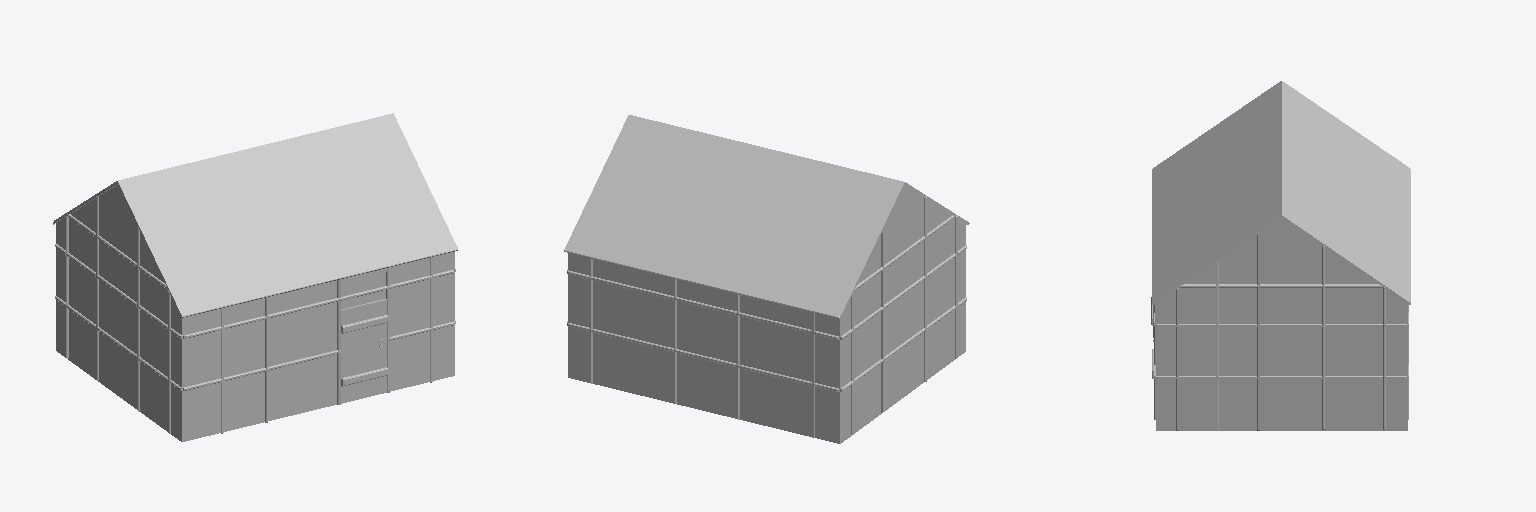
File: VillagerHouseSmall.obj
The picture shows the model from 3 angles: view 1: azimuth 30°, elevation 25°; view 2: azimuth 150°, elevation 25°; view 3: azimuth 270°, elevation 25°; orthographic projection.
Visible parts, largest first — view 1: House2_polySurface10, House2_polySurface10 DoorHinge1 Door2; view 2: House2_polySurface10; view 3: House2_polySurface10.
Part boxes in pixels (left/top/right/bottom): House2_polySurface10: left=53, top=113, right=457, bottom=441; House2_polySurface10 DoorHinge1 Door2: left=341, top=299, right=387, bottom=403; House2_polySurface10: left=564, top=115, right=969, bottom=443; House2_polySurface10: left=1152, top=81, right=1410, bottom=430.
Bounding box in the file's own units: 43.84 × 32.79 × 36.03.